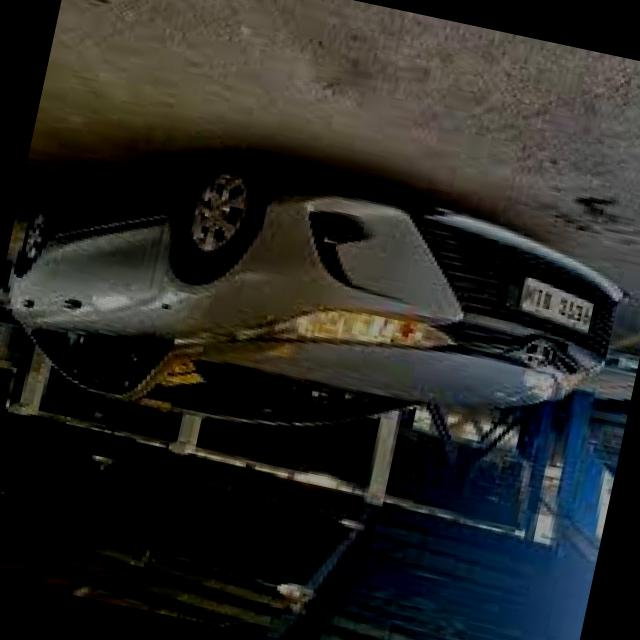ToyotaVios: (0, 116, 636, 502)
